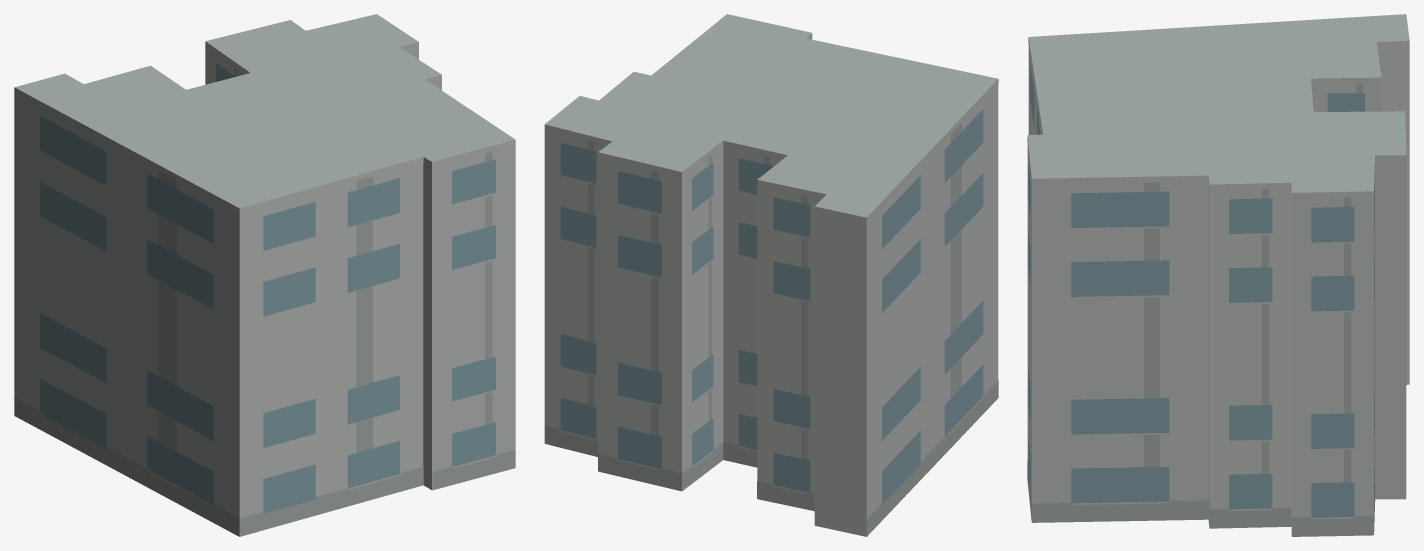
Rendered from survey-upis-32824922.glb.
3 views of the same model, side by side, from view 1: azimuth 30°, elevation 25°; view 2: azimuth 150°, elevation 25°; view 3: azimuth 270°, elevation 25° (orthographic). The views are drawn at different scales.
Parts seen in each view (by area): view 1: survey-upis-32824922.tmp; view 2: survey-upis-32824922.tmp; view 3: survey-upis-32824922.tmp.
Boxes of the visible parts, x1,y1,x2,y2 form: survey-upis-32824922.tmp: (14, 14, 515, 536); survey-upis-32824922.tmp: (544, 14, 998, 536); survey-upis-32824922.tmp: (1027, 14, 1409, 536).
Bounding box in the file's own units: 15.84 × 14.2 × 14.3.
